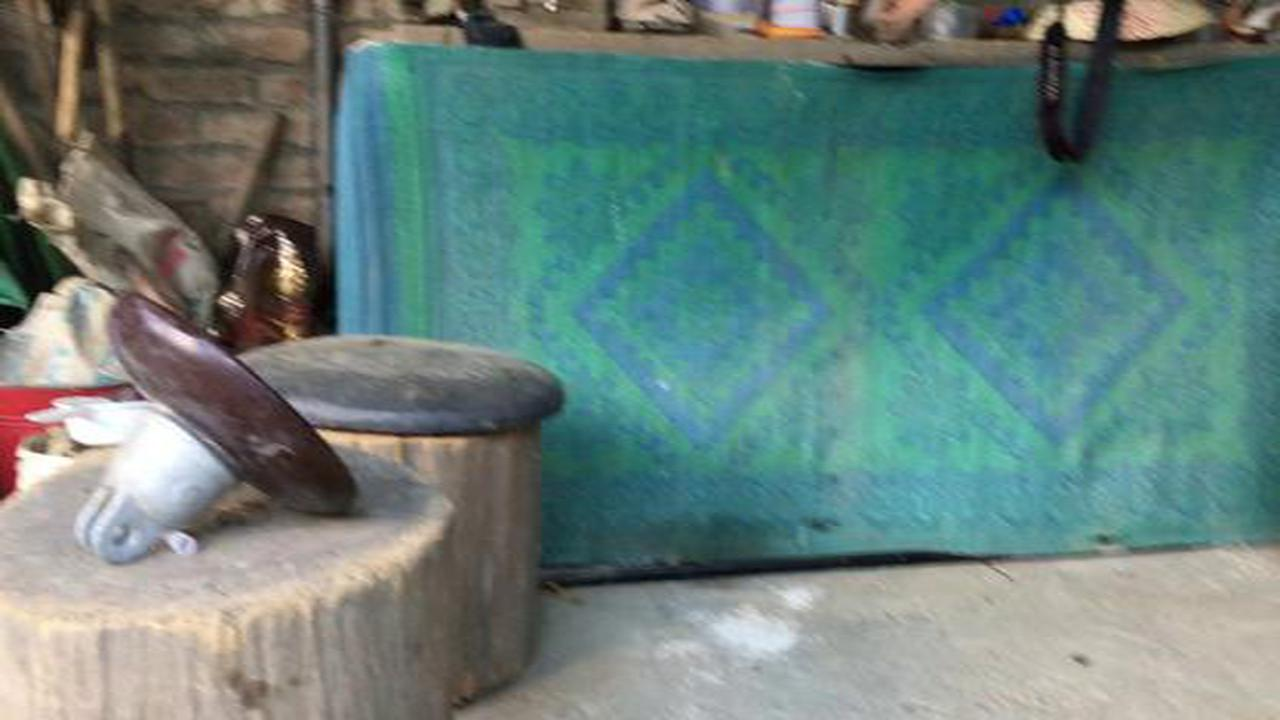insulator_disc: (66, 286, 366, 564)
